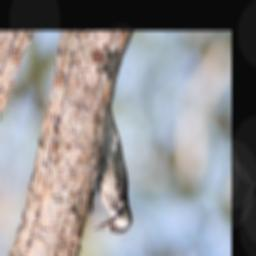Woodpecker: (77, 101, 161, 247)
